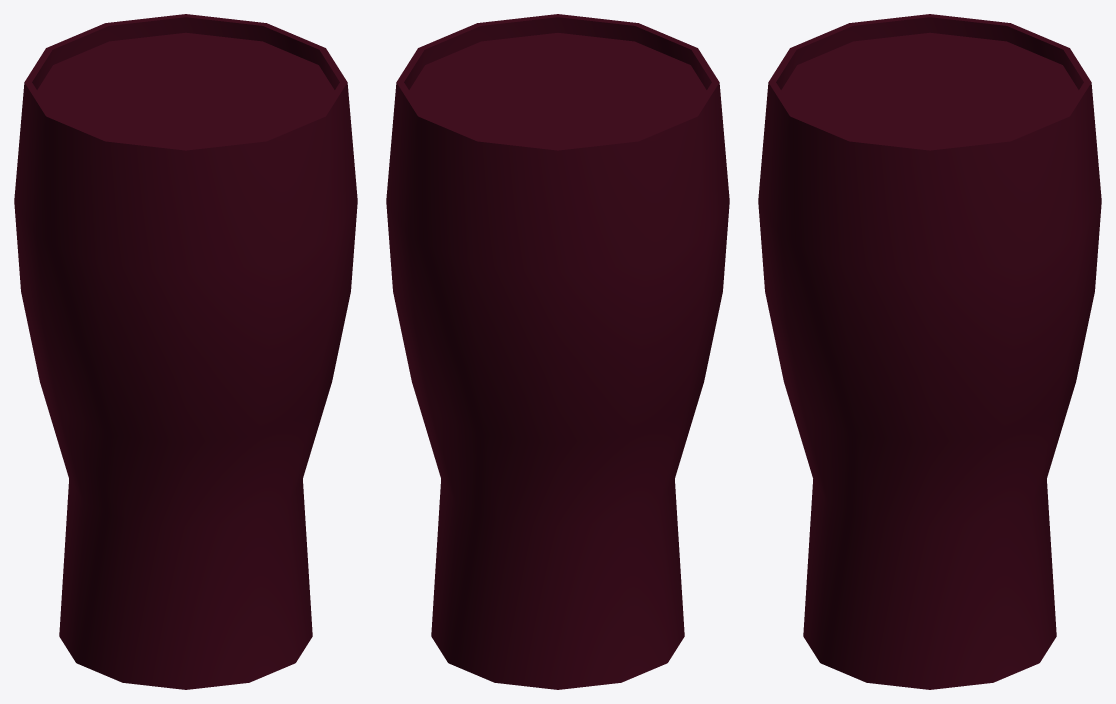
File: Recipe_TravyLite_v01.fbx
3 renders of one model, left to right at view 1: azimuth 30°, elevation 25°; view 2: azimuth 150°, elevation 25°; view 3: azimuth 270°, elevation 25°, orthographic.
Parts seen in each view (by area): view 1: Rest_Bar_Set04_BeerGlass_01, Rest_Bar_Set04_BeerGlass_Liquid_TL; view 2: Rest_Bar_Set04_BeerGlass_01, Rest_Bar_Set04_BeerGlass_Liquid_TL; view 3: Rest_Bar_Set04_BeerGlass_01, Rest_Bar_Set04_BeerGlass_Liquid_TL.
Part boxes in pixels (x1,y1,x2,y2): Rest_Bar_Set04_BeerGlass_01: (14, 14, 357, 689); Rest_Bar_Set04_BeerGlass_Liquid_TL: (37, 32, 334, 147); Rest_Bar_Set04_BeerGlass_01: (386, 14, 729, 689); Rest_Bar_Set04_BeerGlass_Liquid_TL: (409, 33, 706, 147); Rest_Bar_Set04_BeerGlass_01: (758, 14, 1101, 689); Rest_Bar_Set04_BeerGlass_Liquid_TL: (781, 32, 1078, 147).
Size of the model in its own units: 2.33 by 4.15 by 2.33.
